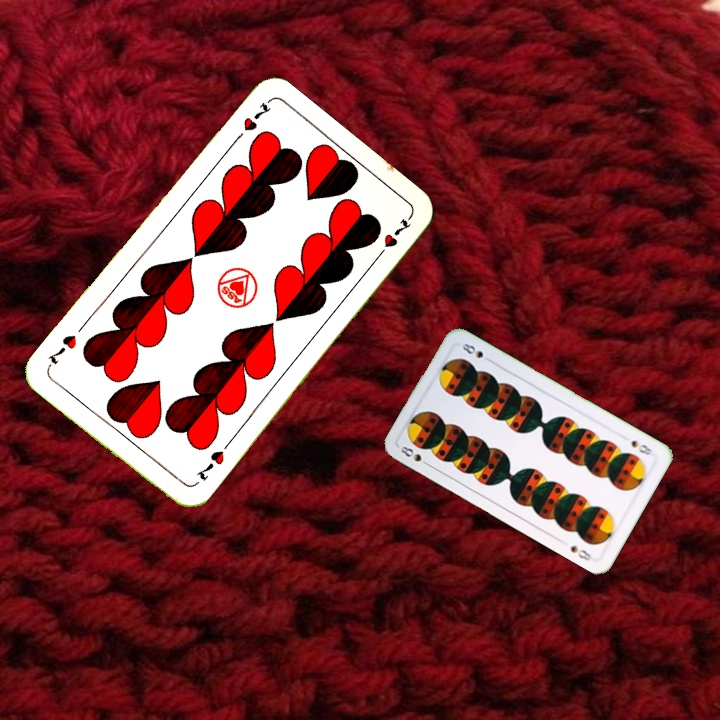H7: (229, 97, 274, 146), (193, 446, 227, 484)
S8: (396, 442, 433, 469), (627, 436, 655, 458)
